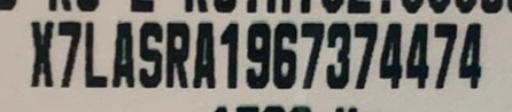letter: (109, 17, 137, 89), (431, 19, 459, 91), (136, 19, 164, 89), (324, 19, 352, 89), (54, 19, 82, 89), (82, 19, 110, 89), (298, 20, 326, 90), (243, 20, 271, 90), (457, 20, 485, 90), (28, 19, 56, 87), (164, 19, 190, 91), (272, 19, 298, 91), (378, 20, 404, 92), (191, 20, 217, 90), (404, 20, 430, 90), (352, 21, 378, 91), (218, 20, 240, 90)
